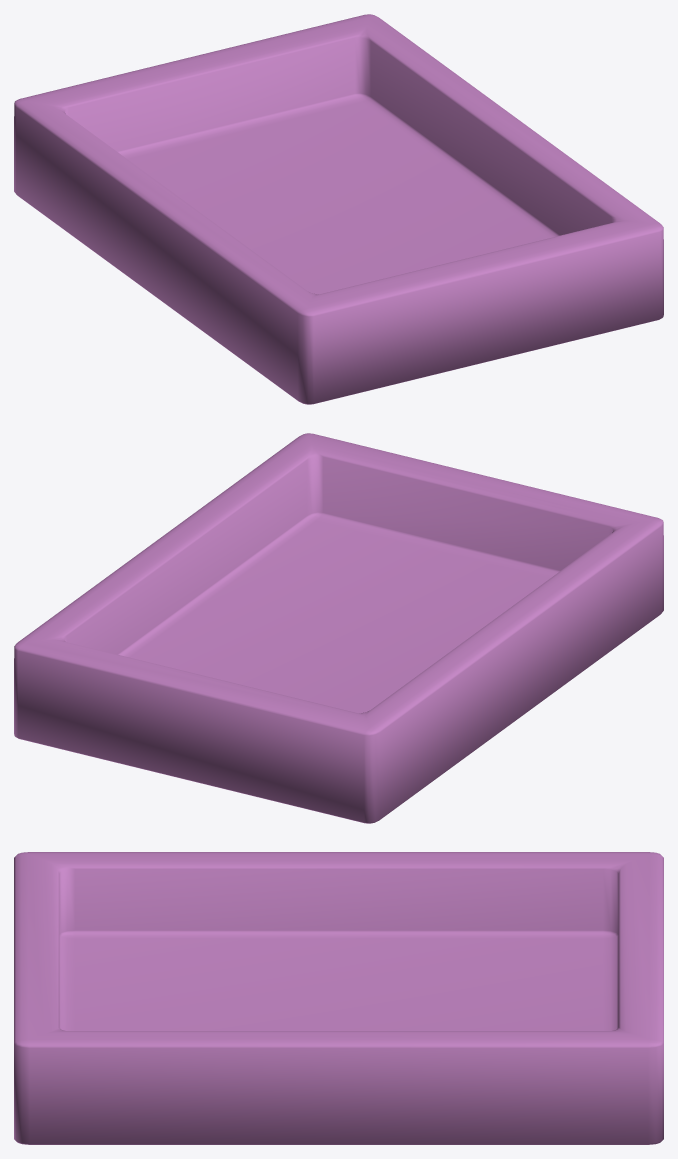
Rendered from SoapDish.fbx.
3 views of the same model, one above another, from view 1: azimuth 30°, elevation 25°; view 2: azimuth 150°, elevation 25°; view 3: azimuth 270°, elevation 25° (orthographic). The views are drawn at different scales.
Parts seen in each view (by area): view 1: Cube; view 2: Cube; view 3: Cube.
Part boxes in pixels (bbox=[...]): Cube: bbox=[14, 14, 663, 404]; Cube: bbox=[14, 433, 663, 823]; Cube: bbox=[14, 852, 663, 1144].
Bounding box in the file's own units: 151 × 37.08 × 213.
